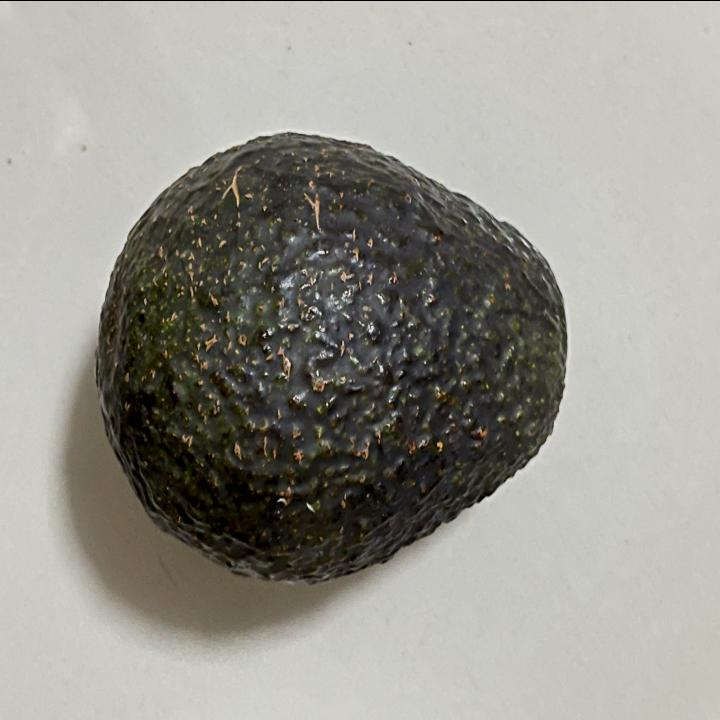Level1: (78, 116, 582, 596)
